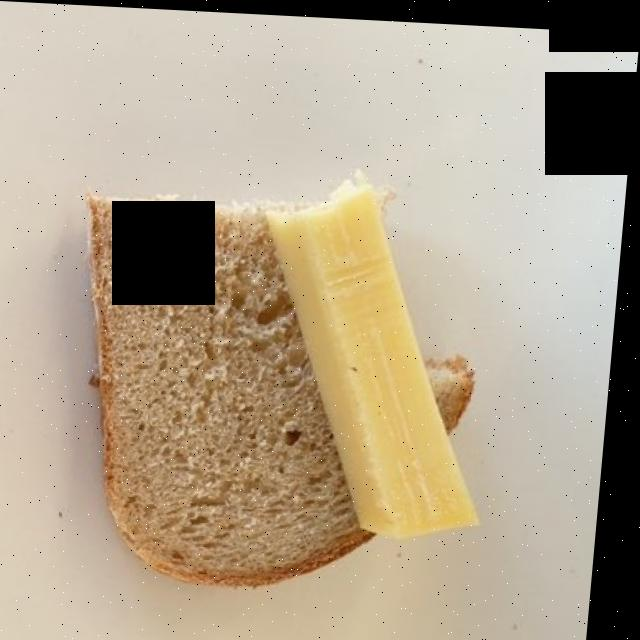bread-whole-wheat: (97, 187, 479, 581)
hard-cheese: (259, 165, 492, 526)
